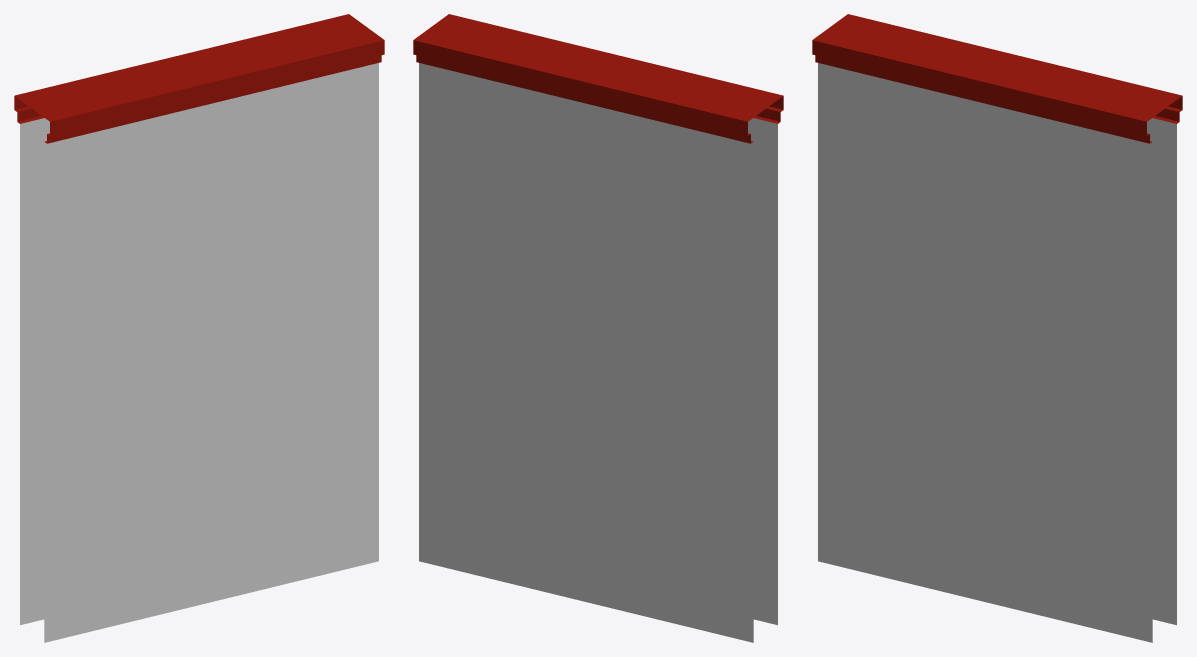
Rendered from SM_Wall_Straight_2x3_01.fbx.
The picture shows the model from 3 angles, left to right: view 1: azimuth 30°, elevation 25°; view 2: azimuth 150°, elevation 25°; view 3: azimuth 330°, elevation 25°; orthographic projection.
Visible parts, largest first — view 1: SM_Wall_Straight_2x3_01; view 2: SM_Wall_Straight_2x3_01; view 3: SM_Wall_Straight_2x3_01.
Boxes of the visible parts, <box> form: SM_Wall_Straight_2x3_01: <box>14,14,384,642</box>; SM_Wall_Straight_2x3_01: <box>413,14,783,642</box>; SM_Wall_Straight_2x3_01: <box>812,14,1182,642</box>.
Bounding box in the file's own units: 78.74 × 118 × 14.57.
